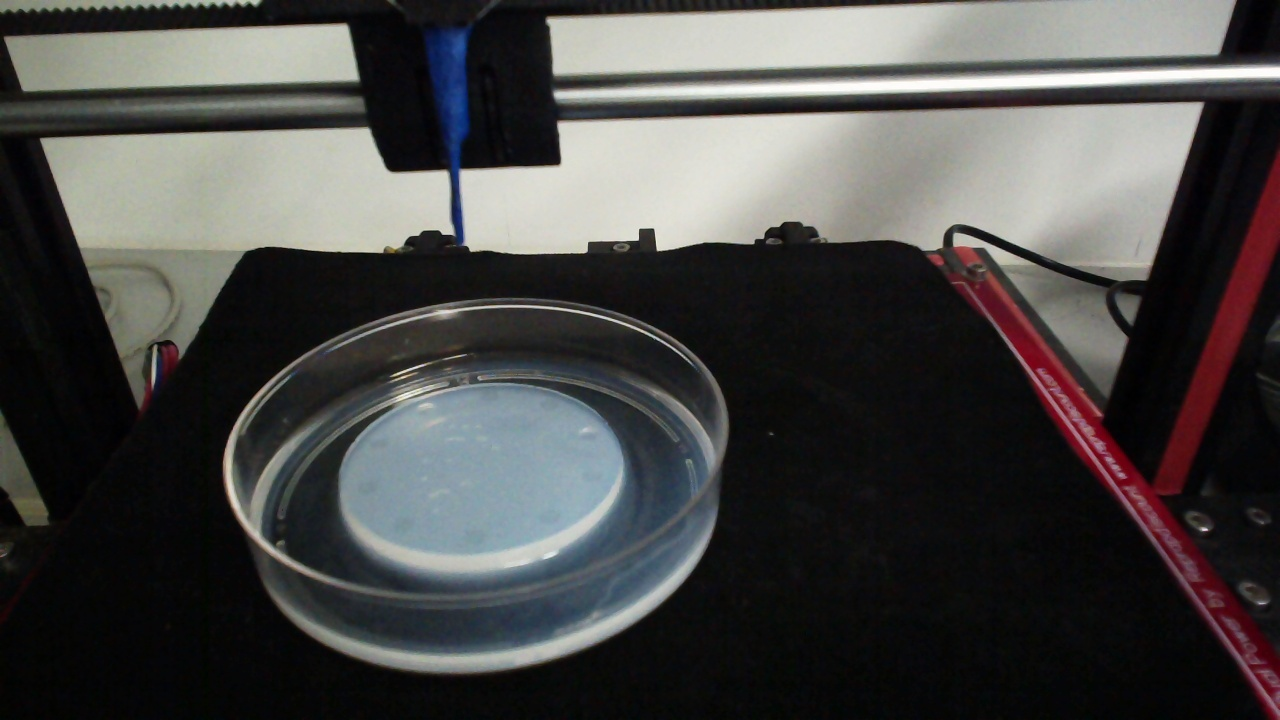groove: (389, 510, 416, 533), (461, 523, 487, 546), (357, 475, 381, 499), (538, 505, 561, 526), (365, 432, 390, 451), (580, 464, 606, 482), (578, 425, 602, 443), (414, 401, 439, 417), (537, 395, 559, 413), (478, 388, 501, 405)
needle: (433, 32, 465, 240)
